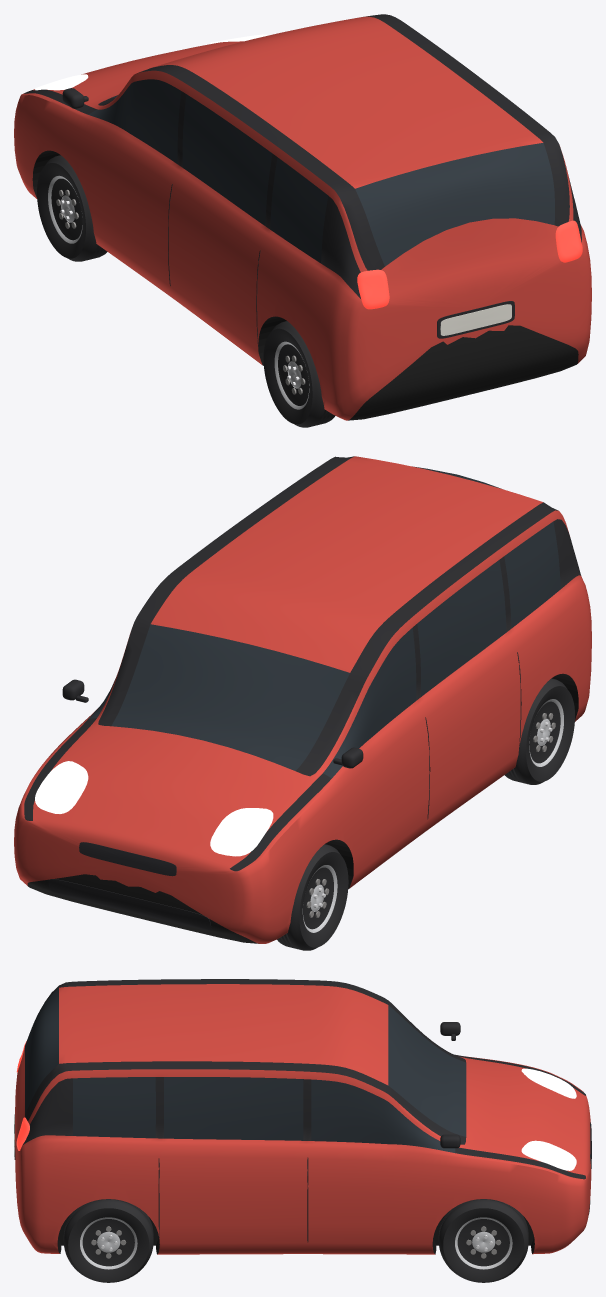
Rendered from TrafficCompact.glb.
The picture shows the model from 3 angles, top to bottom: view 1: azimuth 30°, elevation 25°; view 2: azimuth 150°, elevation 25°; view 3: azimuth 270°, elevation 25°; orthographic projection. The views are drawn at different scales.
Visible parts, largest first — view 1: TrafficCompact_Body, TrafficCompact_Glass, TrafficCompact_Wheel_RL, TrafficCompact_Wheel_FL, TrafficCompact_Lights_Tail, TrafficCompact_Lights_Head; view 2: TrafficCompact_Body, TrafficCompact_Glass, TrafficCompact_Wheel_FL, TrafficCompact_Wheel_RL, TrafficCompact_Lights_Head; view 3: TrafficCompact_Body, TrafficCompact_Glass, TrafficCompact_Wheel_FR, TrafficCompact_Wheel_RR, TrafficCompact_Lights_Head.
Boxes of the visible parts, x1,y1,x2,y2 form: TrafficCompact_Body: (14,14,591,420); TrafficCompact_Glass: (88,79,554,266); TrafficCompact_Wheel_RL: (263,321,335,427); TrafficCompact_Wheel_FL: (37,155,107,261); TrafficCompact_Lights_Tail: (357,220,582,309); TrafficCompact_Lights_Head: (35,34,269,90); TrafficCompact_Body: (14,456,591,943); TrafficCompact_Glass: (88,466,560,778); TrafficCompact_Wheel_FL: (277,844,348,950); TrafficCompact_Wheel_RL: (504,678,574,784); TrafficCompact_Lights_Head: (35,761,273,856); TrafficCompact_Body: (14,979,591,1254); TrafficCompact_Glass: (25,988,466,1152); TrafficCompact_Wheel_FR: (438,1199,528,1282); TrafficCompact_Wheel_RR: (63,1199,153,1282); TrafficCompact_Lights_Head: (521,1068,576,1170).
Size of the model in its own units: 1.8 by 1.52 by 3.73.
